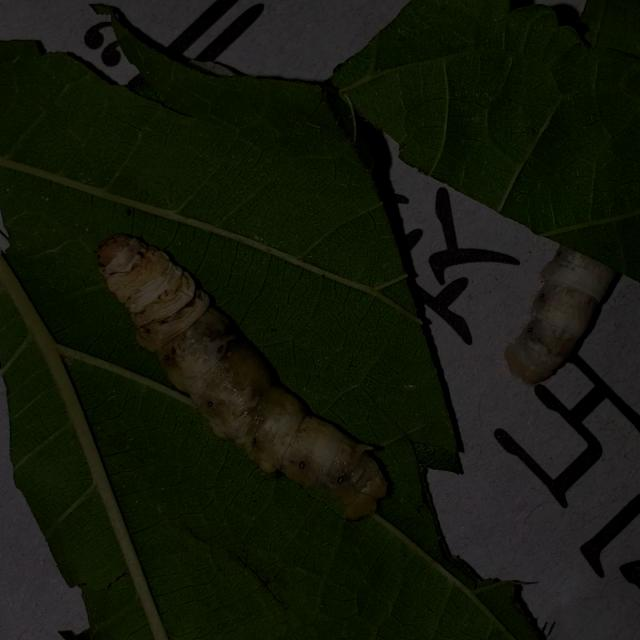Grasserie: (80, 202, 420, 546)
